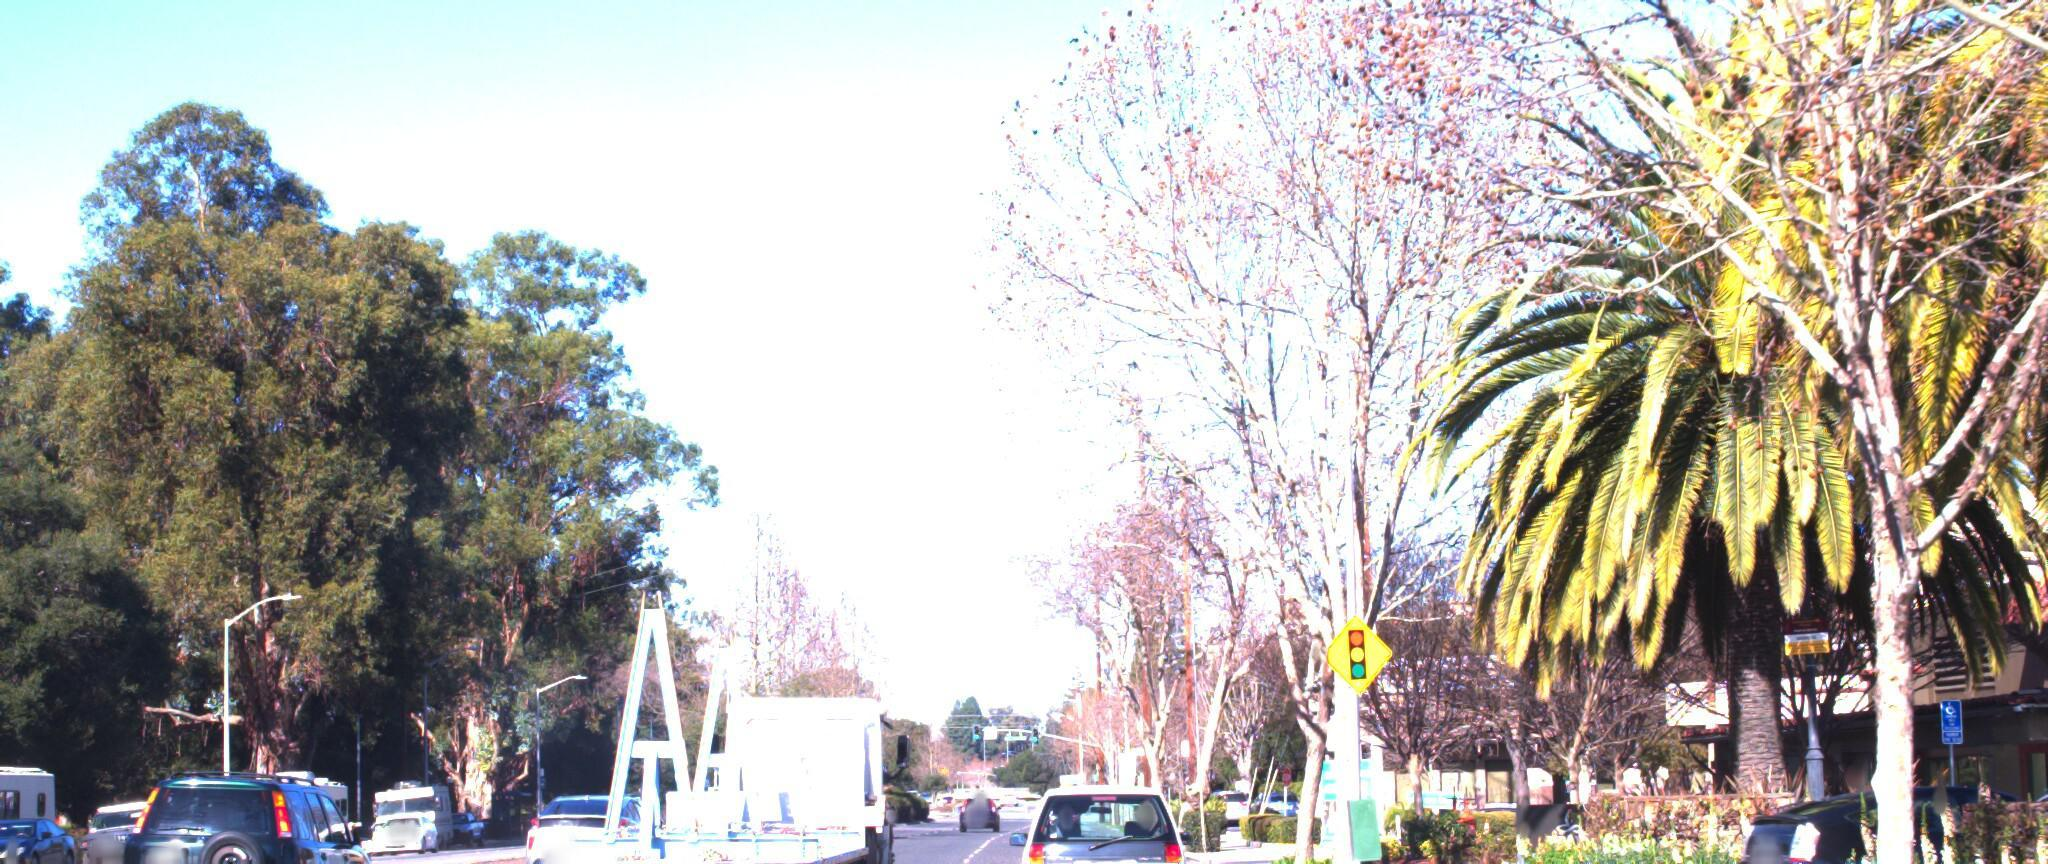car: (1674, 764, 2048, 864), (114, 745, 406, 864), (1006, 771, 1194, 864), (503, 767, 667, 864), (0, 795, 81, 863)
other_vehicle: (0, 727, 84, 864)
truck: (505, 546, 940, 864)
